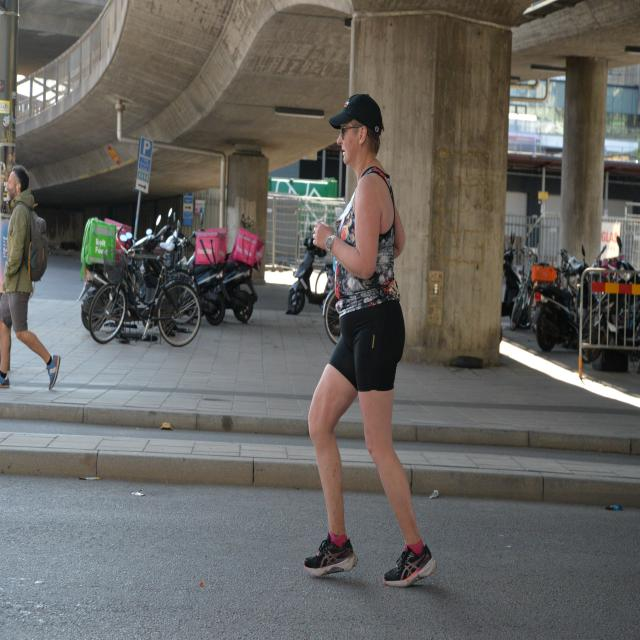runner-detect: (281, 99, 442, 602)
